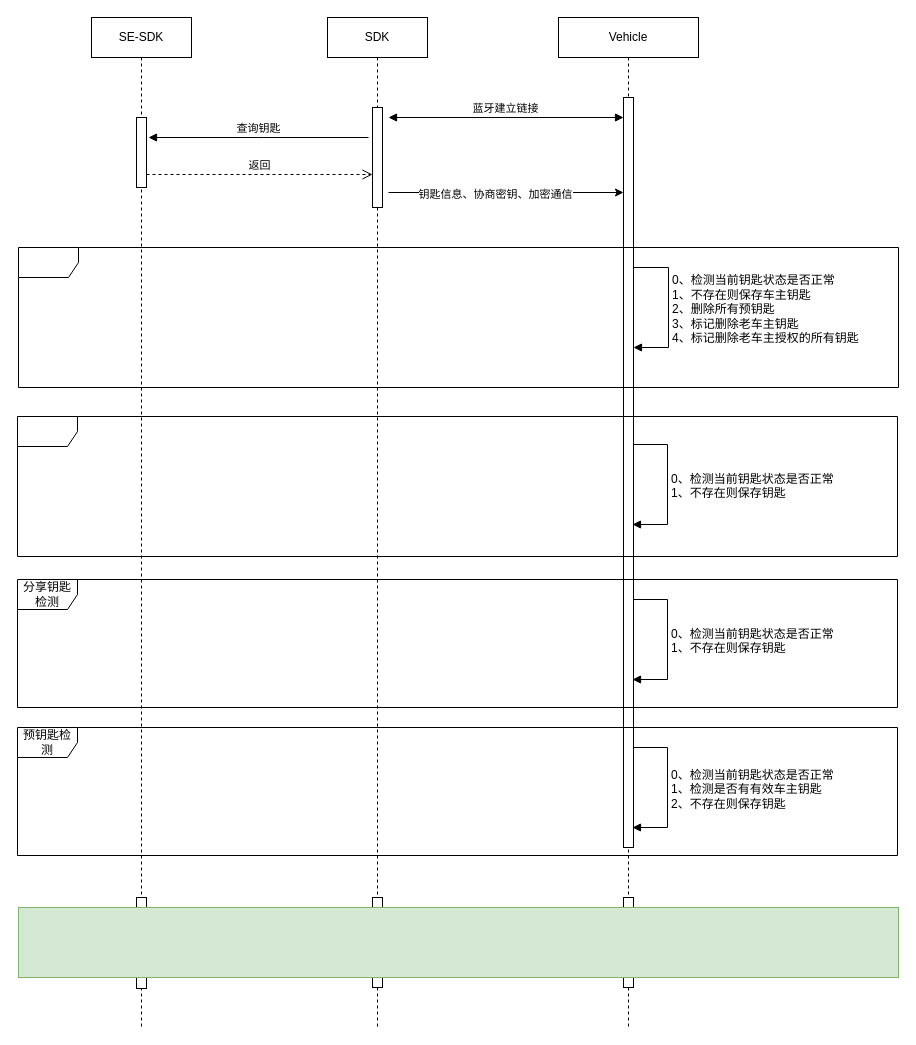
This 916x1045 diagram has some shape labels left out. Here are the shapes that lost their labels. From the top down, the centre of each, then its label:
At point (458, 317): "车主钥匙检测".
At point (457, 486): "家庭钥匙检测".
At point (458, 942): "数字钥匙的使用".
